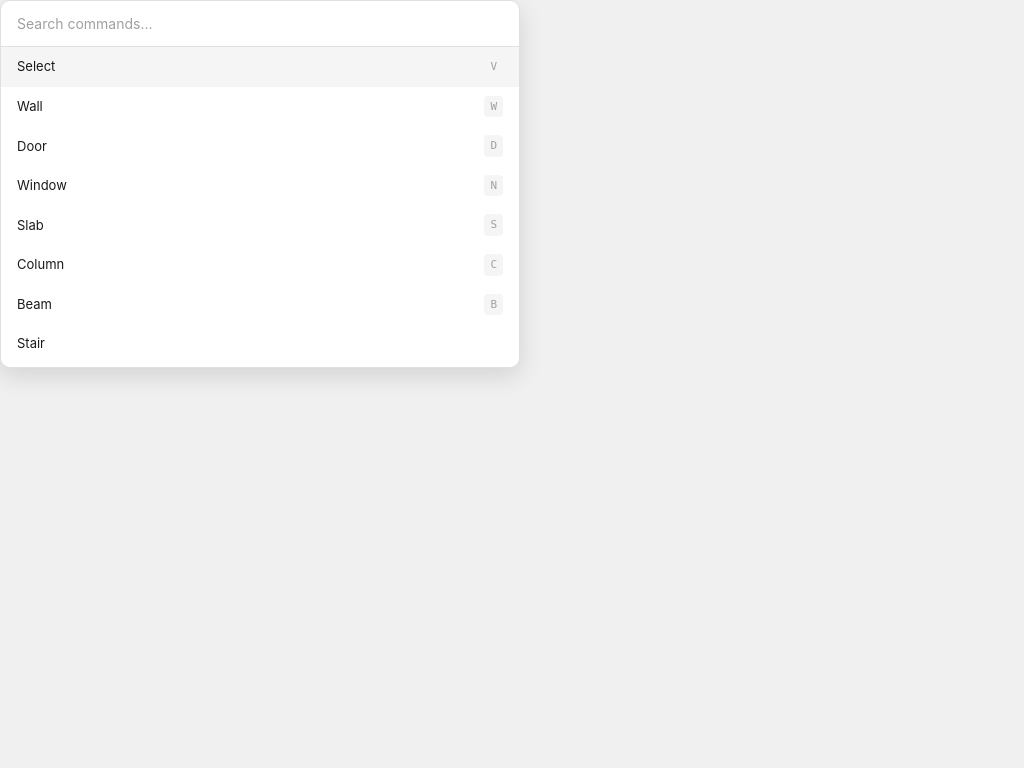
Test: T-UI-002: CommandPalette › shows "AI: " prefix in results when query starts with >
The image size is (1024, 768).
Type ">generate a room" into the dropdown at (260, 24), box [1,1,519,47]
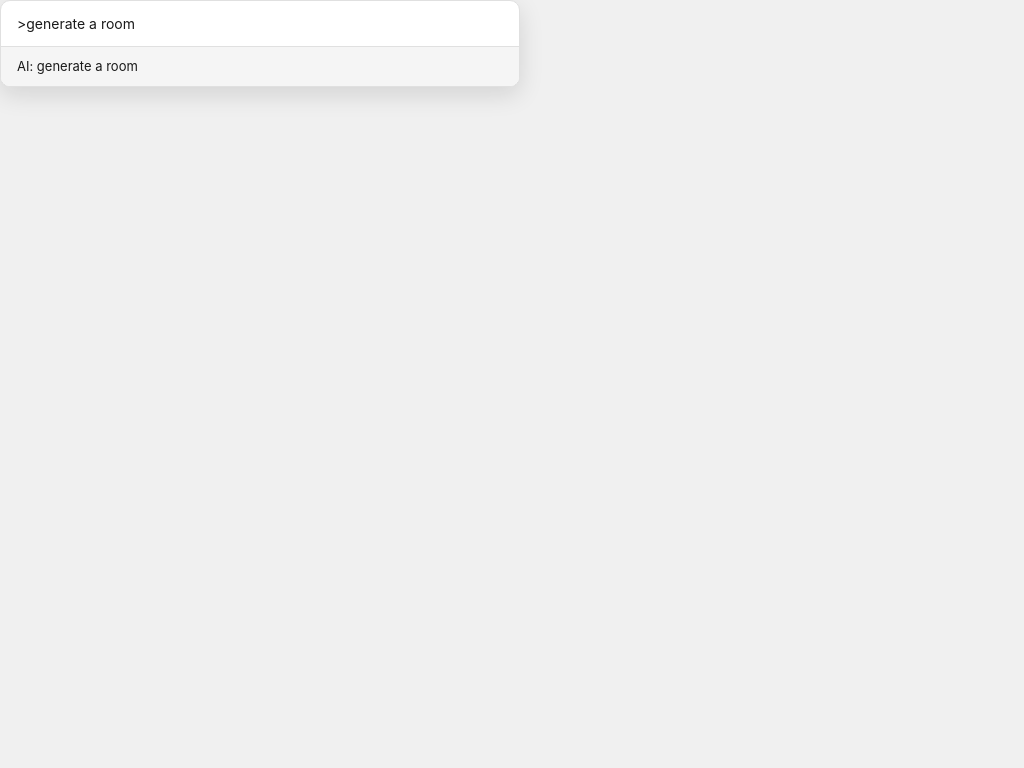
Check: the text "AI: generate a room" is shown, box [17,58,138,74]
